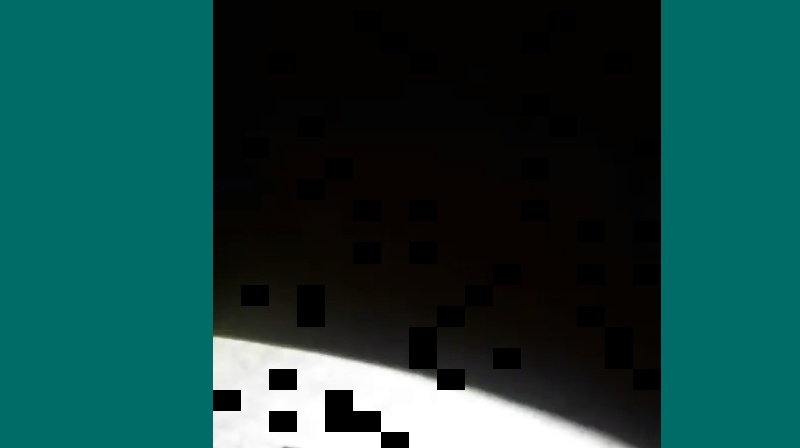O002: (262, 441, 433, 447)
